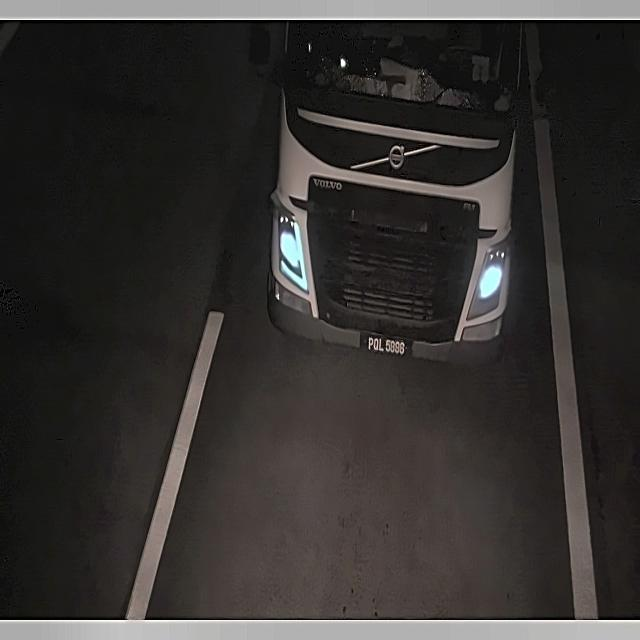car: (357, 321, 416, 367)
